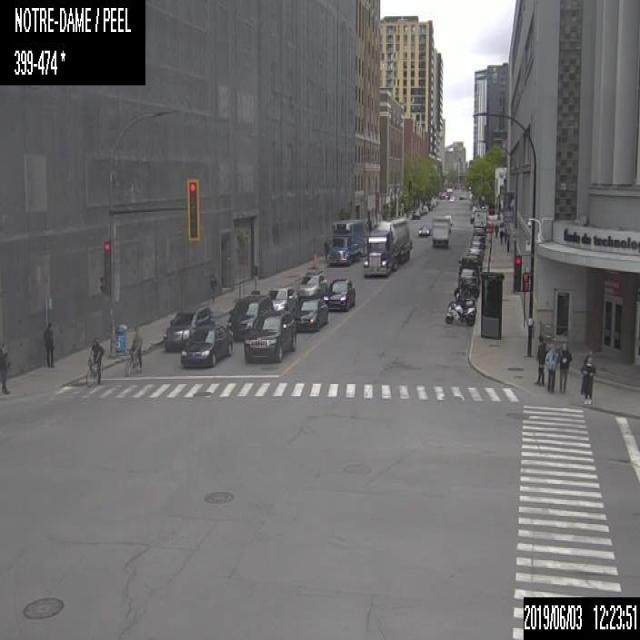construction: (250, 264, 260, 294), (310, 252, 317, 269)
cyclist: (85, 337, 108, 387), (122, 322, 142, 374)
pedestrian: (580, 350, 595, 402), (558, 341, 572, 392), (534, 333, 546, 386), (545, 346, 558, 392), (42, 320, 54, 369), (0, 338, 7, 394), (323, 233, 329, 259), (502, 228, 507, 244), (366, 216, 371, 231), (499, 228, 503, 243), (494, 222, 498, 237)
vehicle: (362, 216, 410, 276), (243, 309, 296, 360), (180, 323, 232, 367), (163, 306, 212, 350), (225, 294, 271, 340), (326, 218, 366, 265), (292, 298, 328, 330), (322, 277, 355, 310), (297, 272, 326, 298), (266, 286, 296, 310), (445, 302, 475, 326), (431, 216, 450, 247), (453, 277, 478, 299), (457, 267, 478, 288), (457, 264, 479, 281), (447, 297, 474, 309), (472, 210, 486, 232), (467, 247, 483, 260), (458, 256, 481, 265), (418, 224, 430, 234), (470, 235, 484, 242), (468, 242, 484, 248), (444, 213, 451, 224), (412, 209, 419, 219)
